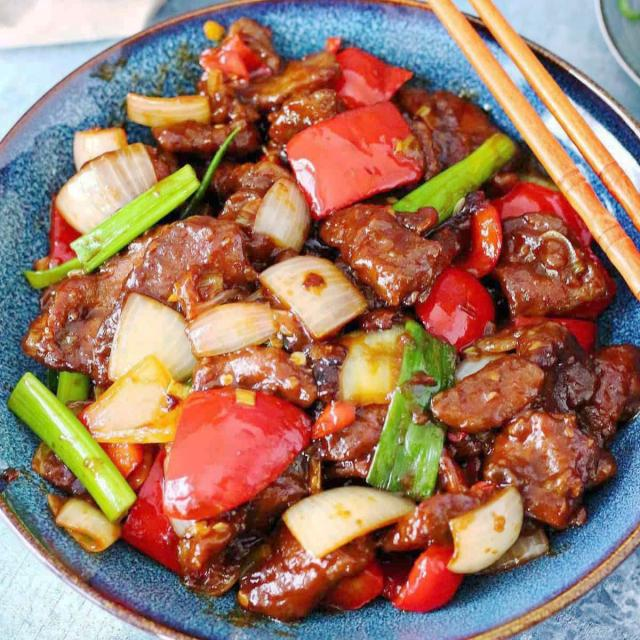Beijing Beef: (14, 24, 640, 612)
